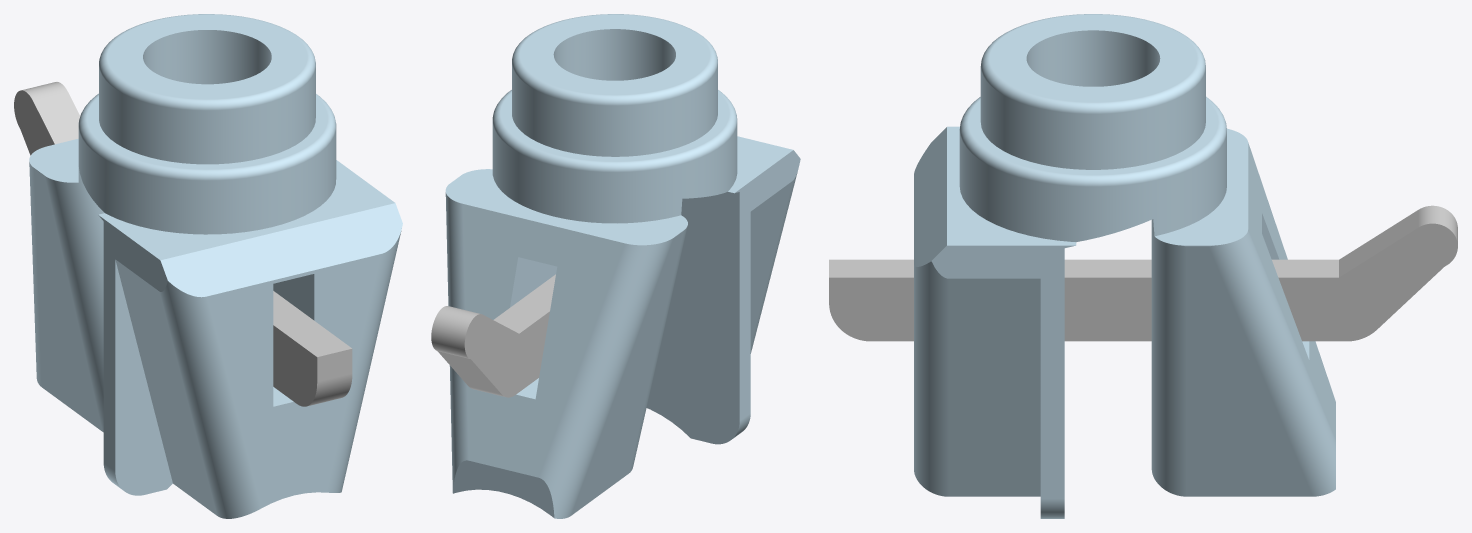
Rendered from Mouthpiece.gltf.
3 renders of one model, left to right at view 1: azimuth 30°, elevation 25°; view 2: azimuth 150°, elevation 25°; view 3: azimuth 270°, elevation 25°, orthographic. The views are drawn at different scales.
Visible parts, largest first — view 1: Part 1, Part 2; view 2: Part 1, Part 2; view 3: Part 1, Part 2.
Boxes of the visible parts, x1,y1,x2,y2 form: Part 1: (29, 14, 402, 518); Part 2: (14, 82, 352, 406); Part 1: (445, 14, 800, 518); Part 2: (431, 274, 555, 397); Part 1: (914, 14, 1335, 518); Part 2: (829, 205, 1457, 341).
Size of the model in its own units: 0.0508 by 0.0821 by 0.1135.
